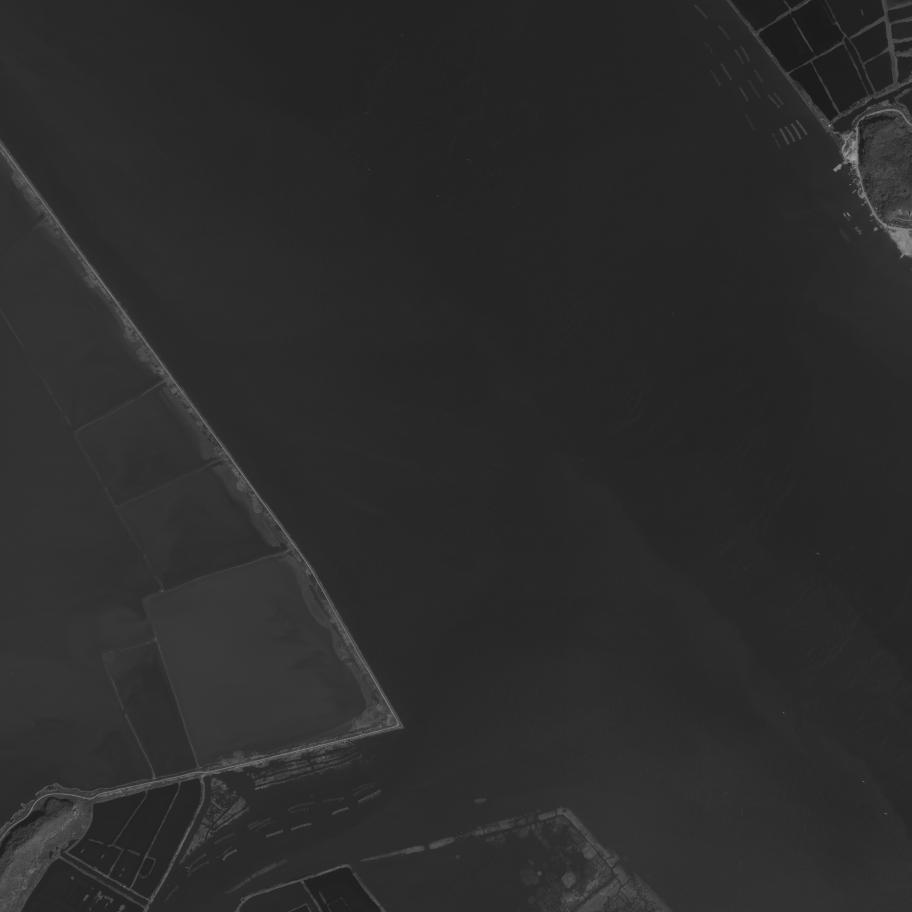ship: (845, 213, 851, 221), (856, 225, 862, 232), (860, 9, 864, 16), (852, 189, 857, 194), (847, 212, 851, 217), (843, 213, 847, 218)
